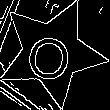O_N: (27, 24, 77, 81)
